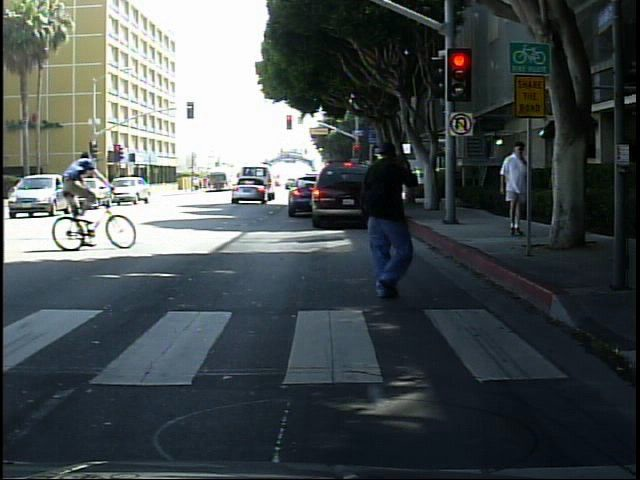person: (347, 131, 426, 308), (41, 138, 104, 242), (556, 138, 591, 245), (496, 140, 532, 238)
